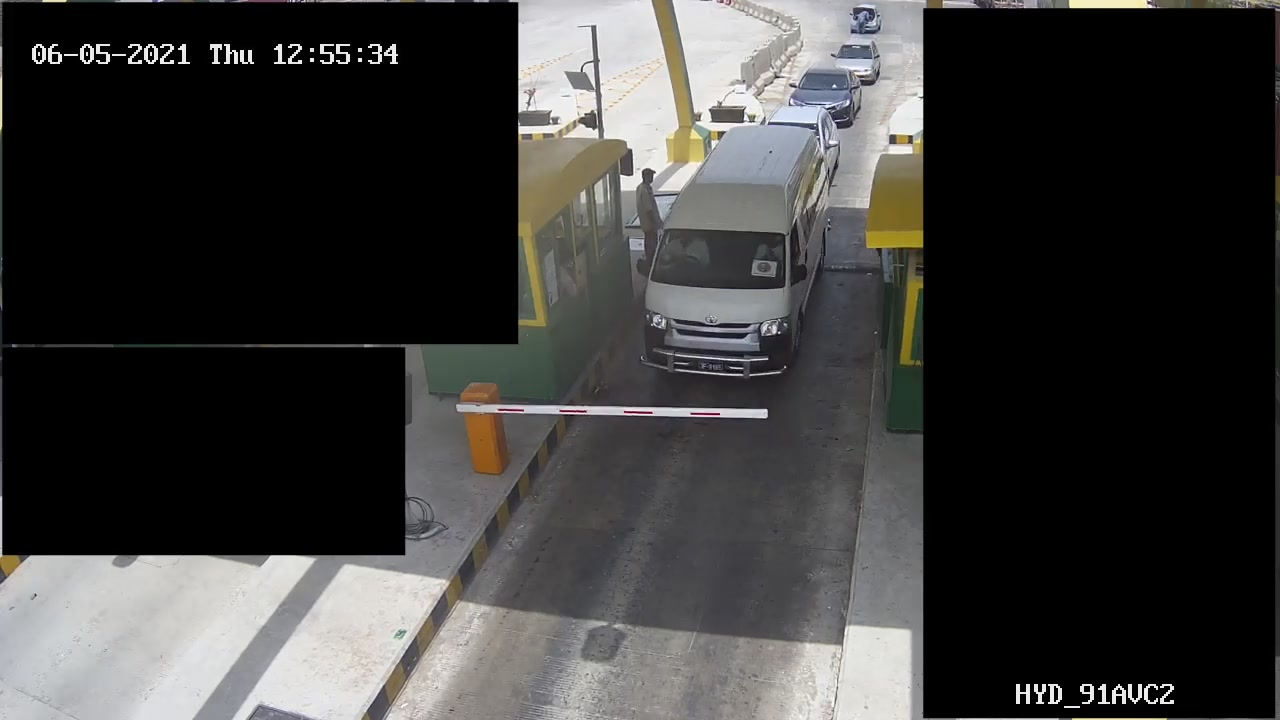F2: (633, 121, 832, 386)
